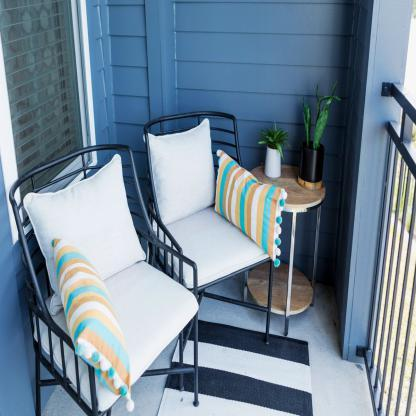chair: (9, 145, 206, 410), (144, 83, 277, 342)
table: (241, 165, 334, 334)
